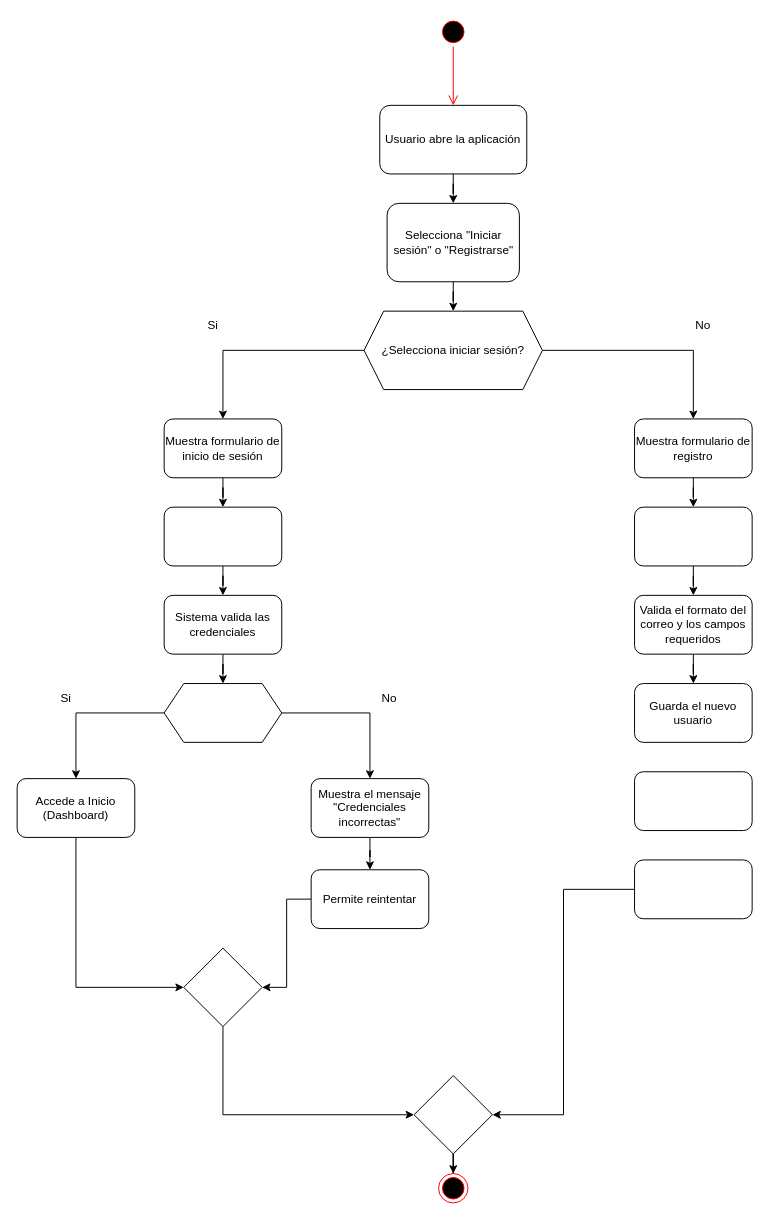
Image size: 769x1220. Some labels were removed from this diagram. The shapes that lost their labels are listed below. From the top down, each one's centre as x and y in pixels, then its label:
At pixel 222 536: "Usuario ingresa correo y contraseña (o usa Google)".
At pixel 693 536: "Usuario ingresa sus datos personales y contraseña".
At pixel 222 712: "¿Correctas?".
At pixel 693 801: "Envía el correo de verificación de cuenta".
At pixel 693 889: "Usuario verifica la cuenta e inicia sesión (Inicio/Dashboard)".
